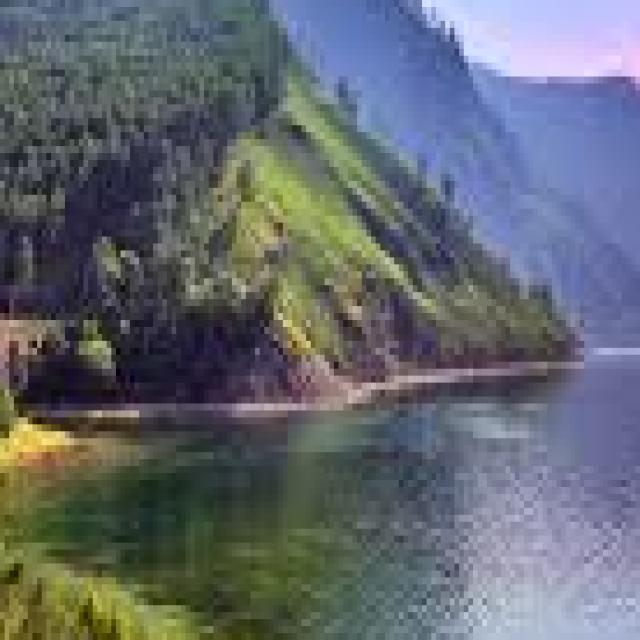-: (223, 382, 585, 640)
